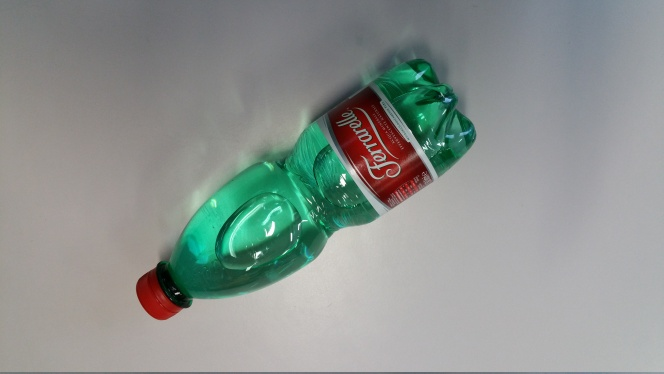bottle: (119, 59, 479, 324)
